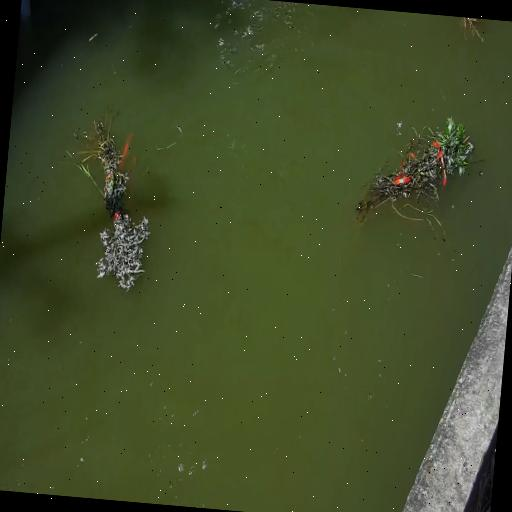twig: (58, 104, 162, 290), (352, 107, 484, 243), (457, 18, 486, 44)
